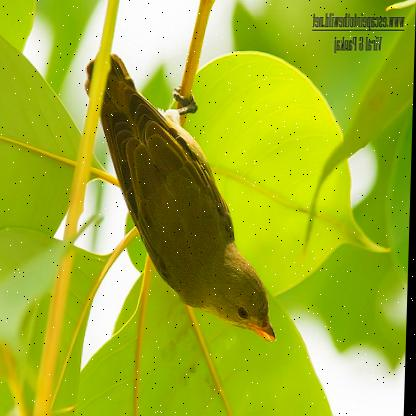Burung: (74, 53, 291, 349)
